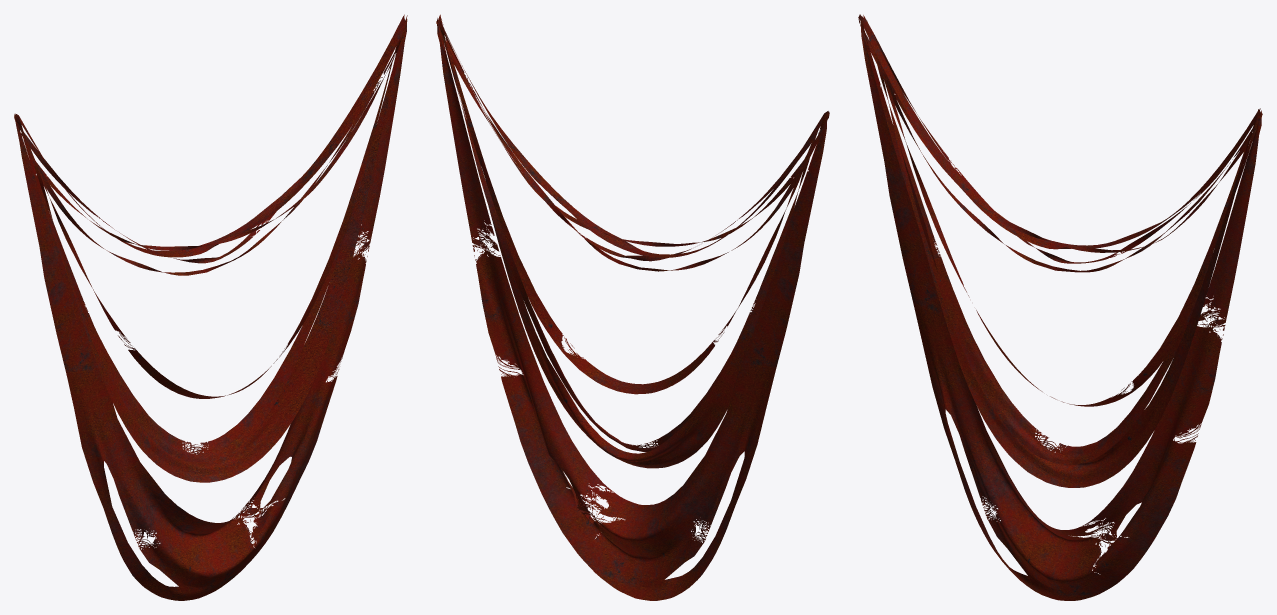
The model's file is P_Cloth04.fbx.
3 views of the same model, side by side, from view 1: azimuth 30°, elevation 25°; view 2: azimuth 150°, elevation 25°; view 3: azimuth 330°, elevation 25° (orthographic). The views are drawn at different scales.
Parts seen in each view (by area): view 1: P_Cloth04; view 2: P_Cloth04; view 3: P_Cloth04.
Part boxes in pixels (bbox=[...]): P_Cloth04: bbox=[14, 14, 407, 600]; P_Cloth04: bbox=[436, 14, 829, 600]; P_Cloth04: bbox=[858, 14, 1262, 600].
Bounding box in the file's own units: 2857 × 3714 × 194.
